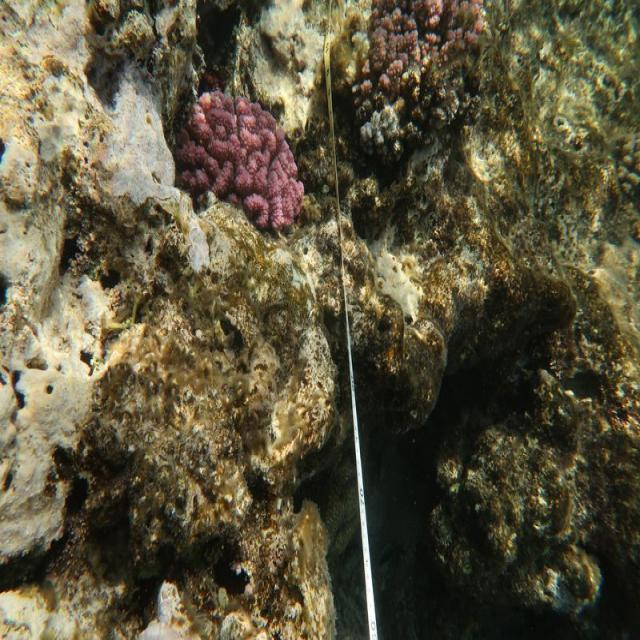Healthy Coral: (175, 89, 306, 239), (365, 2, 487, 107)
